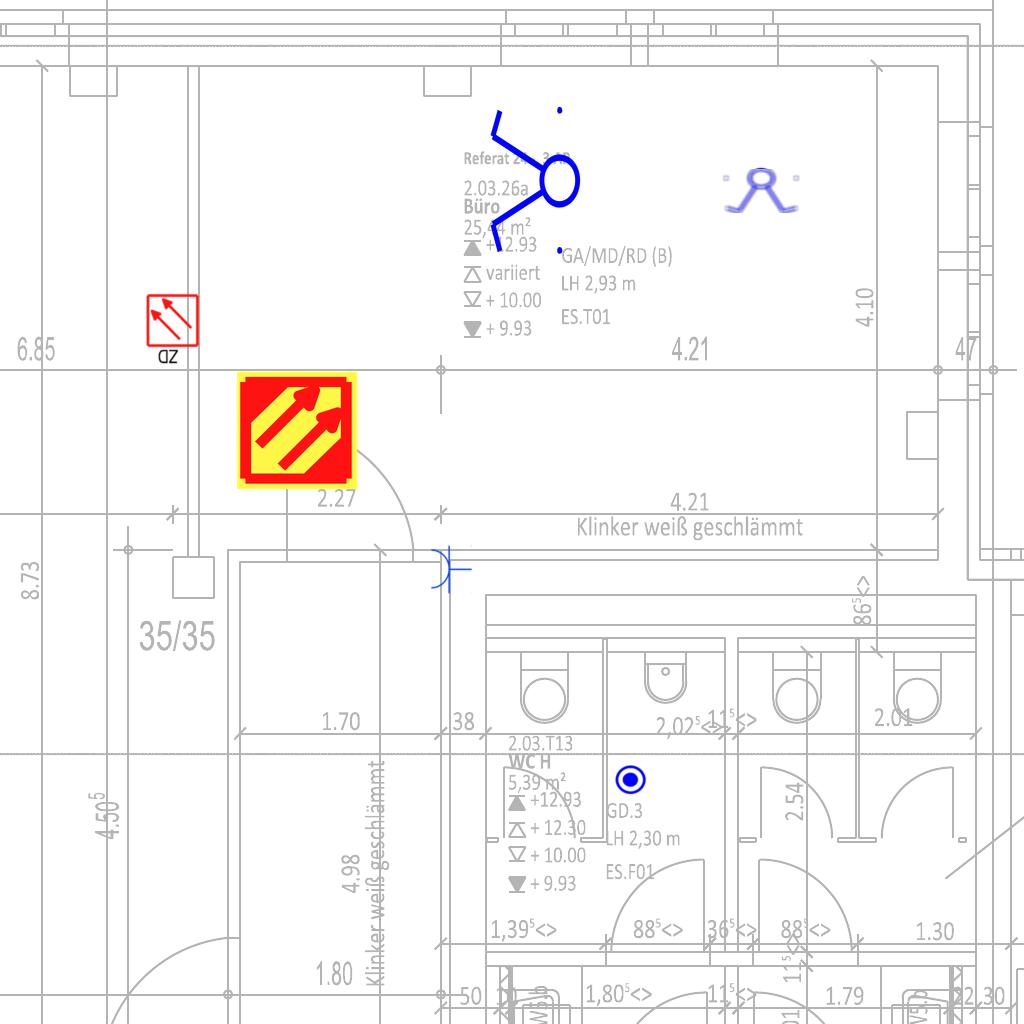ASR_Ansaugrauchmelder: (235, 368, 360, 493)
Schukosteckdose_einfach: (429, 544, 472, 594)
Serienschalter: (486, 98, 582, 266), (720, 167, 804, 215)
Taster: (614, 762, 647, 795)
ZD_Melder_in_Zwischendecke_mit_Revisionsoeffnung_mind_40_x_40_cm: (145, 293, 202, 367)
